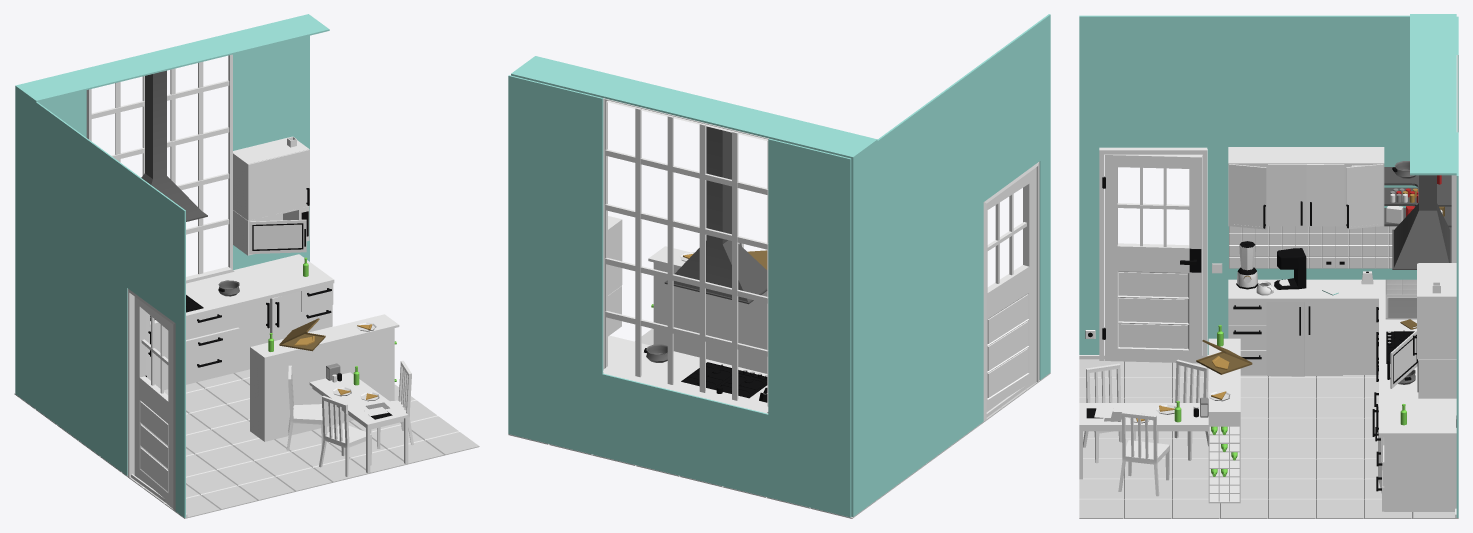
3 views of the same model, side by side, from view 1: azimuth 30°, elevation 25°; view 2: azimuth 150°, elevation 25°; view 3: azimuth 270°, elevation 25° (orthographic). The views are drawn at different scales.
Parts seen in each view (by area): view 1: Wall_Left, Floor, Base_Objs_Middle_Island, Wall_Right, Wall_Right1, Door, Window_frame, Bottom_Cabinate, Top_Cabinate_Solo_Cover, Exhuast, Microwave1, Middle_Island_Table (+14 smaller); view 2: Wall_Right, Wall_Left, Window_frame, Wall_Right1, Door, Base_Objs_Middle_Island, Exhuast, Bottom_Cabinate, Door_Frame, Floor, Top_Solo_Cabinate; view 3: Wall_Left, Floor, Bottom_Cabinate, Door, Wall_Right1, Kitchen_Tile, Base_Objs_Middle_Island, Top_Solo_Cabinate, Exhuast, Base_Objs_Top_Cabinate, Door_Frame, Cabinate_T_2_Cover7 (+19 smaller).
Boxes of the visible parts, x1,y1,x2,y2 form: Wall_Left: (15,87,185,517); Floor: (14,369,479,518); Base_Objs_Middle_Island: (250,314,399,441); Wall_Right: (38,35,309,270); Wall_Right1: (15,14,329,102); Door: (134,297,173,508); Window_frame: (86,54,234,283); Bottom_Cabinate: (146,254,334,328); Top_Cabinate_Solo_Cover: (248,149,309,220); Exhuast: (141,70,207,221); Microwave1: (233,206,309,255); Middle_Island_Table: (309,372,408,473); Wall_Right: (508,75,851,517); Wall_Left: (851,14,1050,516); Window_frame: (603,98,768,411); Wall_Right1: (511,56,877,158); Door: (986,167,1036,411); Base_Objs_Middle_Island: (648,246,767,373); Exhuast: (664,126,767,304); Bottom_Cabinate: (603,335,768,413); Door_Frame: (983,161,1039,420); Floor: (508,328,1050,518); Top_Solo_Cabinate: (608,216,621,295); Wall_Left: (1079,15,1417,354); Floor: (1079,359,1458,518); Bottom_Cabinate: (1228,279,1456,511); Door: (1104,154,1202,363); Wall_Right1: (1410,14,1456,175); Kitchen_Tile: (1229,226,1396,268); Base_Objs_Middle_Island: (1208,338,1240,503); Top_Solo_Cabinate: (1418,263,1456,359); Exhuast: (1392,175,1451,269); Base_Objs_Top_Cabinate: (1228,147,1384,226); Door_Frame: (1099,147,1207,360); Cabinate_T_2_Cover7: (1266,302,1304,376).
Bounding box in the file's own units: 4.02 × 4.03 × 4.02.
